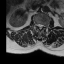CCS_normal: (39, 22, 41, 32)
LFS_stenosis: (43, 24, 45, 28)
LLS_normal: (41, 23, 43, 29)
RFS_normal: (36, 22, 38, 28)
RLS_normal: (38, 22, 39, 29)
